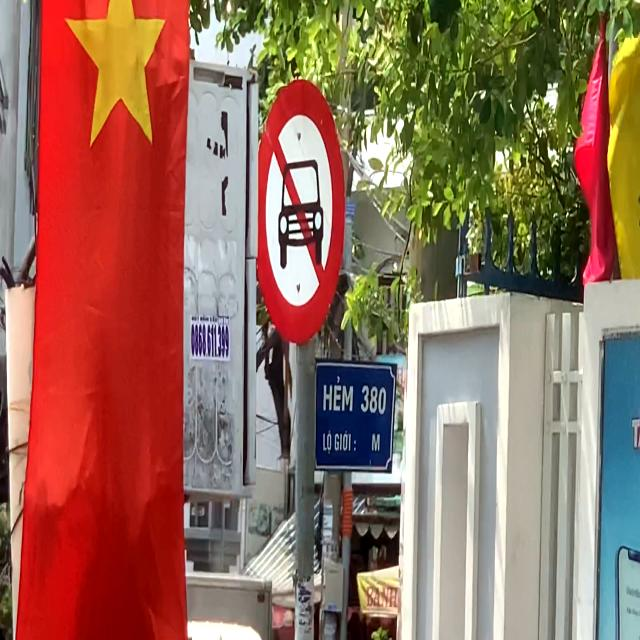P.103a: (260, 81, 347, 343)
